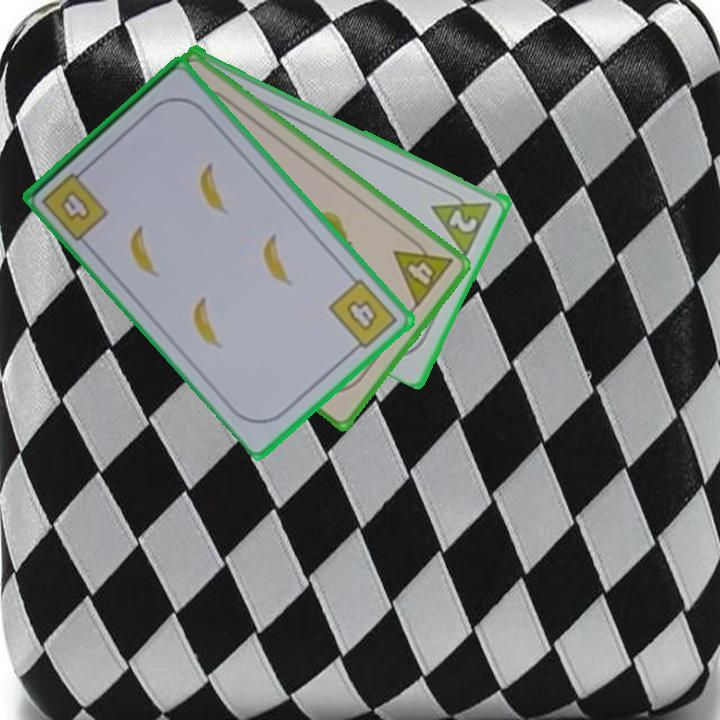2p: (445, 205, 481, 236)
4b: (324, 274, 401, 356), (38, 162, 111, 244)
4p: (390, 230, 457, 311)
